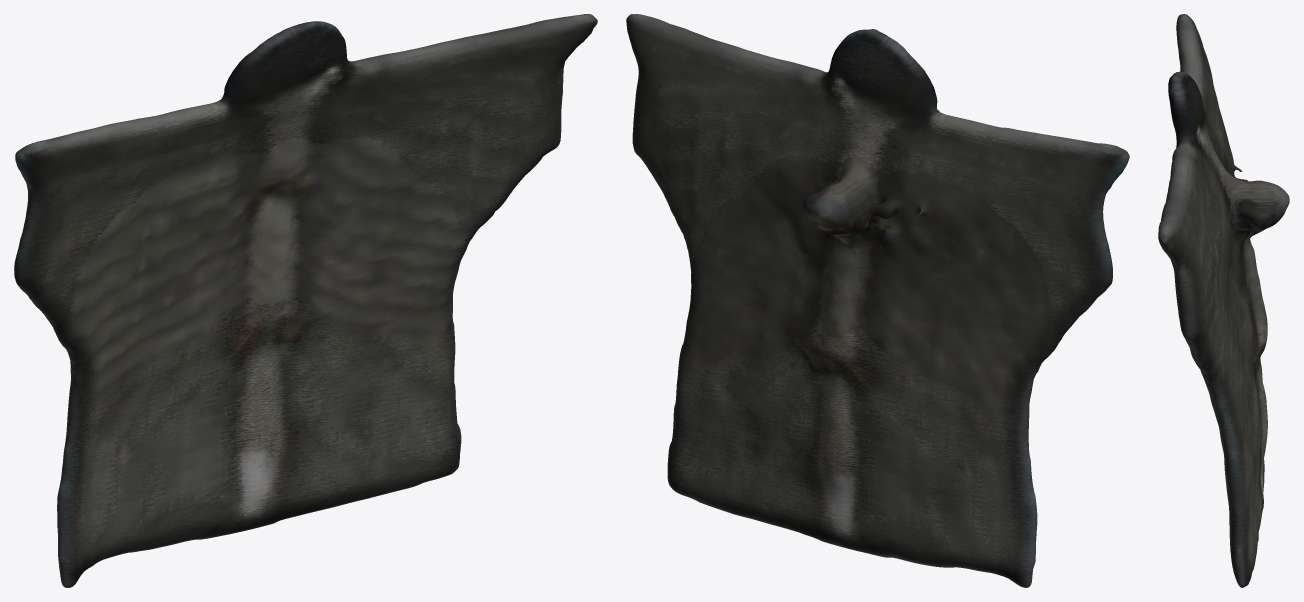
The model's file is kfl-2281.glb.
The picture shows the model from 3 angles, left to right: view 1: azimuth 30°, elevation 25°; view 2: azimuth 150°, elevation 25°; view 3: azimuth 270°, elevation 25°; orthographic projection. The views are drawn at different scales.
Parts seen in each view (by area): view 1: geometry_0; view 2: geometry_0; view 3: geometry_0.
Boxes of the visible parts, left/top/right/bottom form: geometry_0: left=14, top=14, right=597, bottom=587; geometry_0: left=626, top=14, right=1129, bottom=587; geometry_0: left=1158, top=14, right=1289, bottom=587.
Bounding box in the file's own units: 0.9855 × 0.8965 × 0.2363.
Materials: 1 (1 with a texture image).
